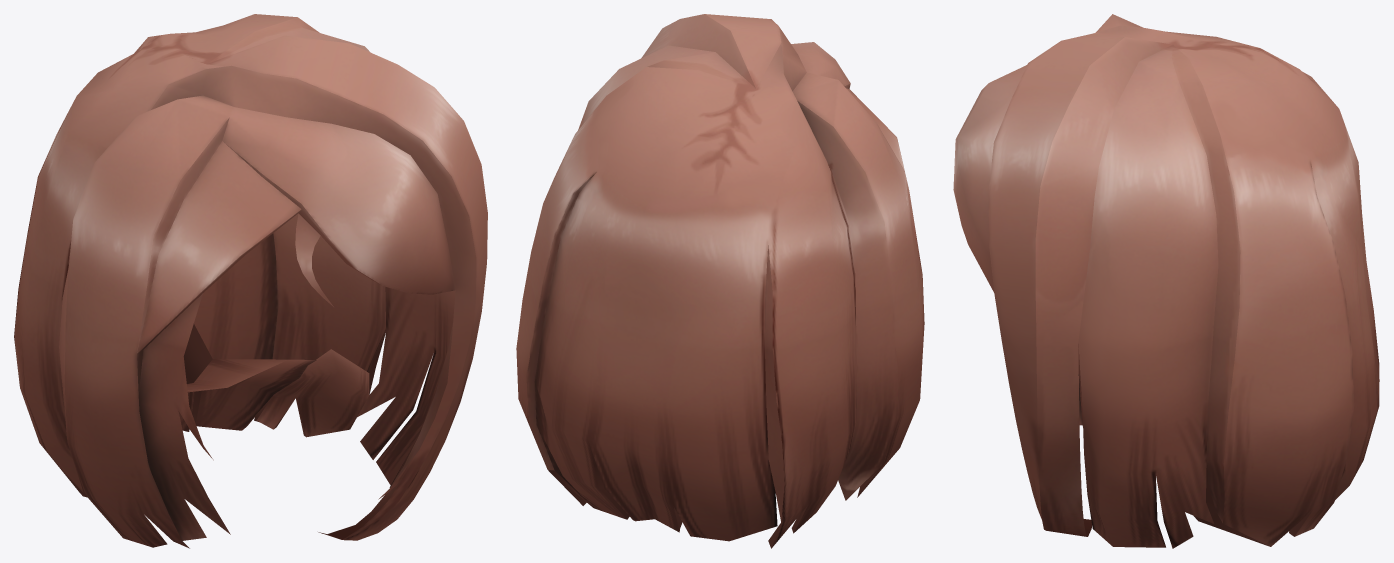
The model's file is hairone.glb.
3 renders of one model, left to right at view 1: azimuth 30°, elevation 25°; view 2: azimuth 150°, elevation 25°; view 3: azimuth 270°, elevation 25°, orthographic. The views are drawn at different scales.
Parts seen in each view (by area): view 1: hairone; view 2: hairone; view 3: hairone.
Boxes of the visible parts, x1,y1,x2,y2 form: hairone: (14,14,487,548); hairone: (516,14,924,548); hairone: (953,14,1379,548).
Bounding box in the file's own units: 1.02 × 1.3 × 1.04.
Materials: 1 (1 with a texture image).
